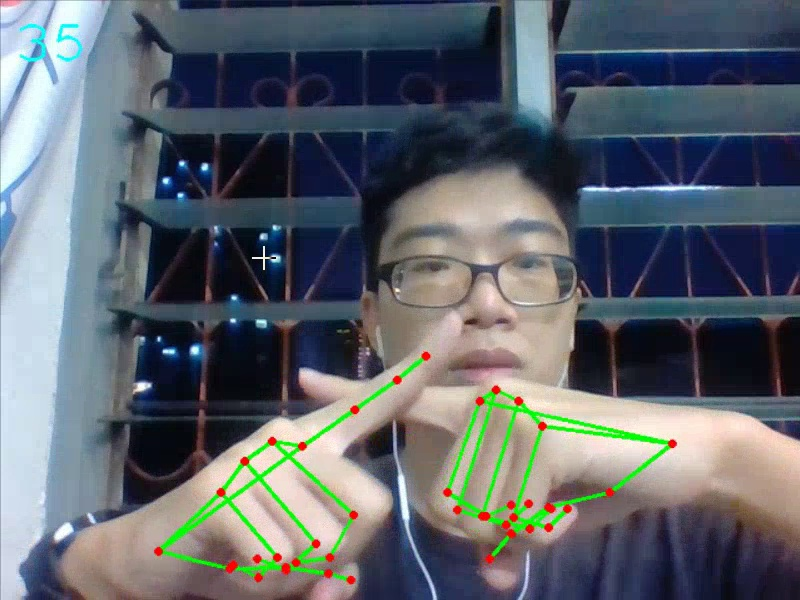No: (150, 343, 685, 586)
